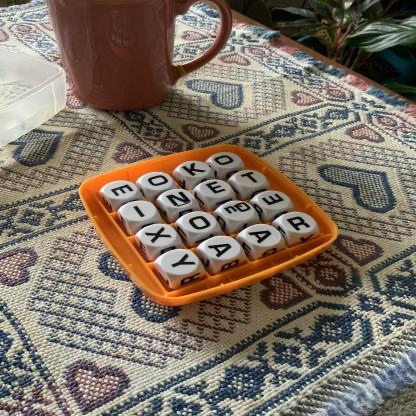a: (204, 237, 242, 261), (246, 225, 282, 247)
e: (258, 192, 292, 211), (105, 182, 139, 200), (200, 180, 232, 199)
i: (123, 202, 157, 222)
k: (180, 162, 212, 179)
n: (162, 190, 196, 210)
o: (182, 212, 218, 234), (142, 173, 174, 191), (212, 154, 243, 169)
qu: (222, 202, 255, 222)
r: (282, 213, 317, 235)
t: (236, 171, 268, 188)
x: (141, 225, 178, 248)
y: (162, 250, 201, 276)
